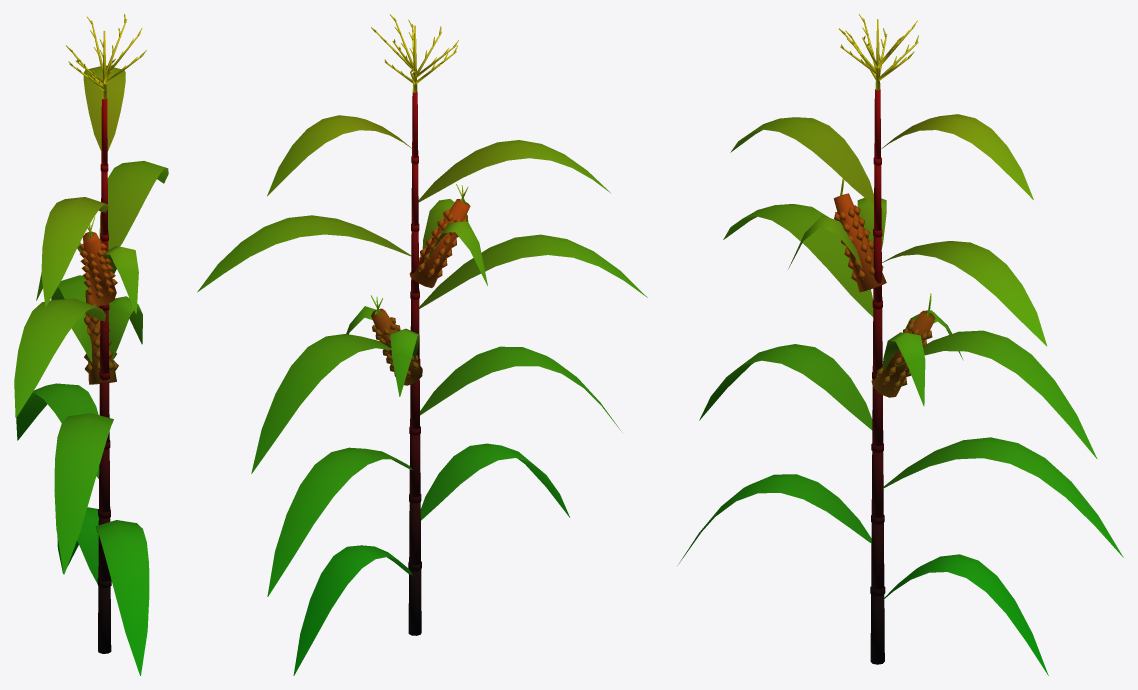
Rendered from SM_CornC.fbx.
The picture shows the model from 3 angles, left to right: view 1: azimuth 30°, elevation 25°; view 2: azimuth 150°, elevation 25°; view 3: azimuth 270°, elevation 25°; orthographic projection. The views are drawn at different scales.
Parts seen in each view (by area): view 1: SM_CornC; view 2: SM_CornC; view 3: SM_CornC.
Part boxes in pixels (left/top/right/bottom): SM_CornC: left=14, top=14, right=168, bottom=675; SM_CornC: left=197, top=14, right=647, bottom=675; SM_CornC: left=677, top=14, right=1123, bottom=675.
Bounding box in the file's own units: 128 × 157 × 248.
